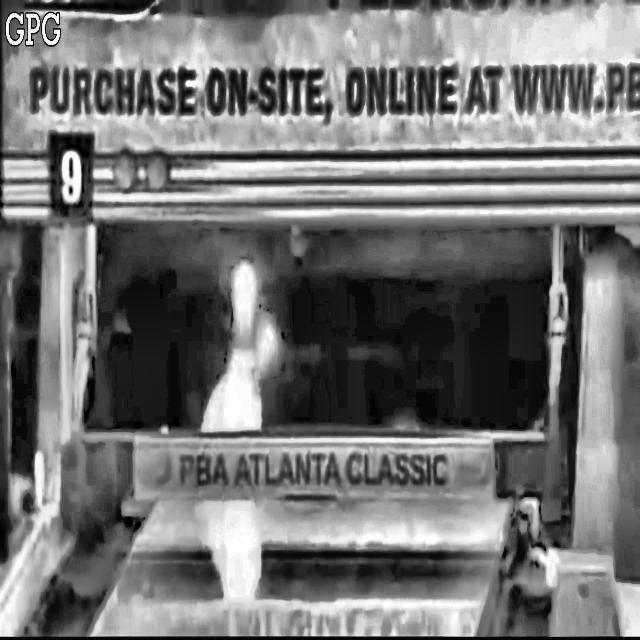sweep board: (133, 435, 495, 500)
